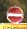No entry: (5, 6, 22, 23)
